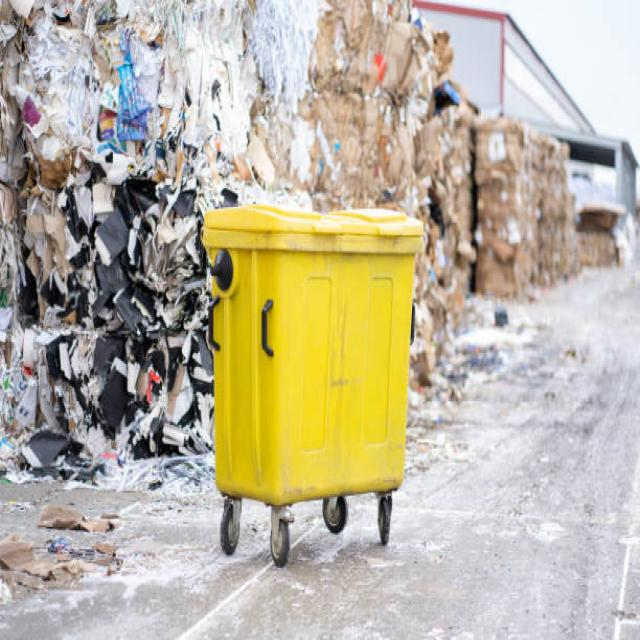plastic: (13, 18, 278, 156)
